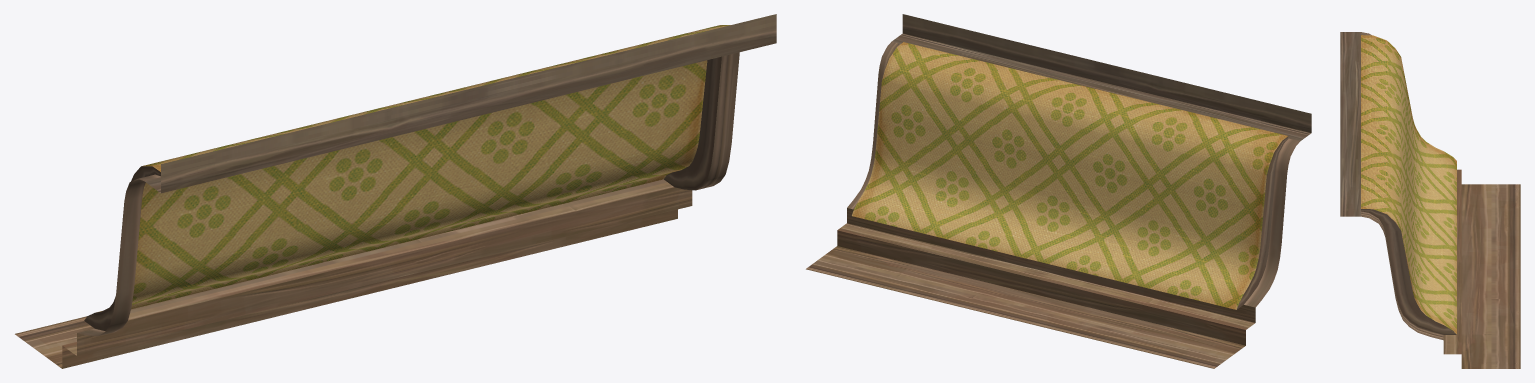
Rendered from Roof_Edge_100x50x50_01_Mesh.fbx.
3 renders of one model, left to right at view 1: azimuth 30°, elevation 25°; view 2: azimuth 150°, elevation 25°; view 3: azimuth 270°, elevation 25°, orthographic. The views are drawn at different scales.
Parts seen in each view (by area): view 1: Roof_Edge_100x50x50_01_LOD0; view 2: Roof_Edge_100x50x50_01_LOD0; view 3: Roof_Edge_100x50x50_01_LOD0.
Part boxes in pixels (left/top/right/bottom): Roof_Edge_100x50x50_01_LOD0: left=15, top=14, right=776, bottom=368; Roof_Edge_100x50x50_01_LOD0: left=806, top=14, right=1311, bottom=368; Roof_Edge_100x50x50_01_LOD0: left=1340, top=32, right=1520, bottom=368.
Bounding box in the file's own units: 100 × 43.01 × 41.24.
